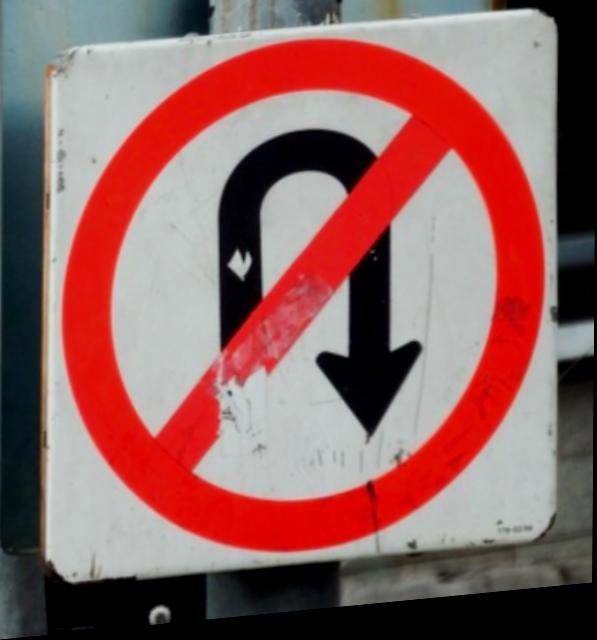not_u_turn_right: (89, 22, 549, 573)
